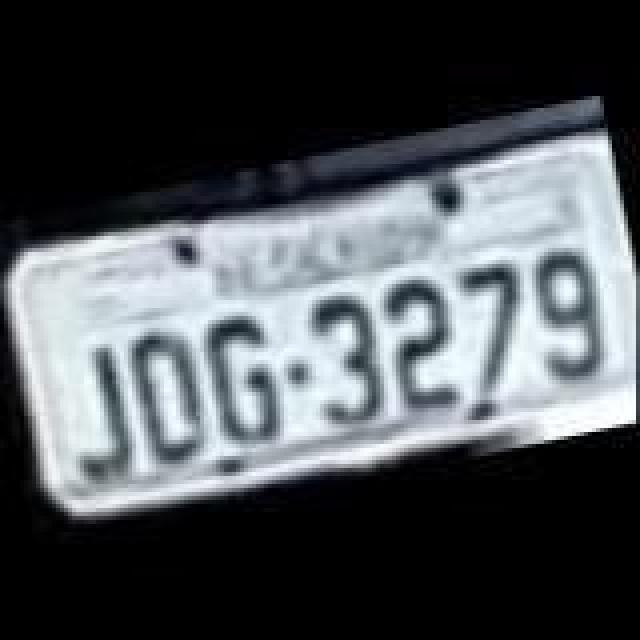2: (372, 268, 472, 420)
3: (296, 280, 396, 432)
7: (450, 254, 546, 402)
9: (520, 242, 612, 382)
G: (196, 306, 296, 454)
J: (56, 334, 148, 482)
O: (120, 320, 212, 464)
